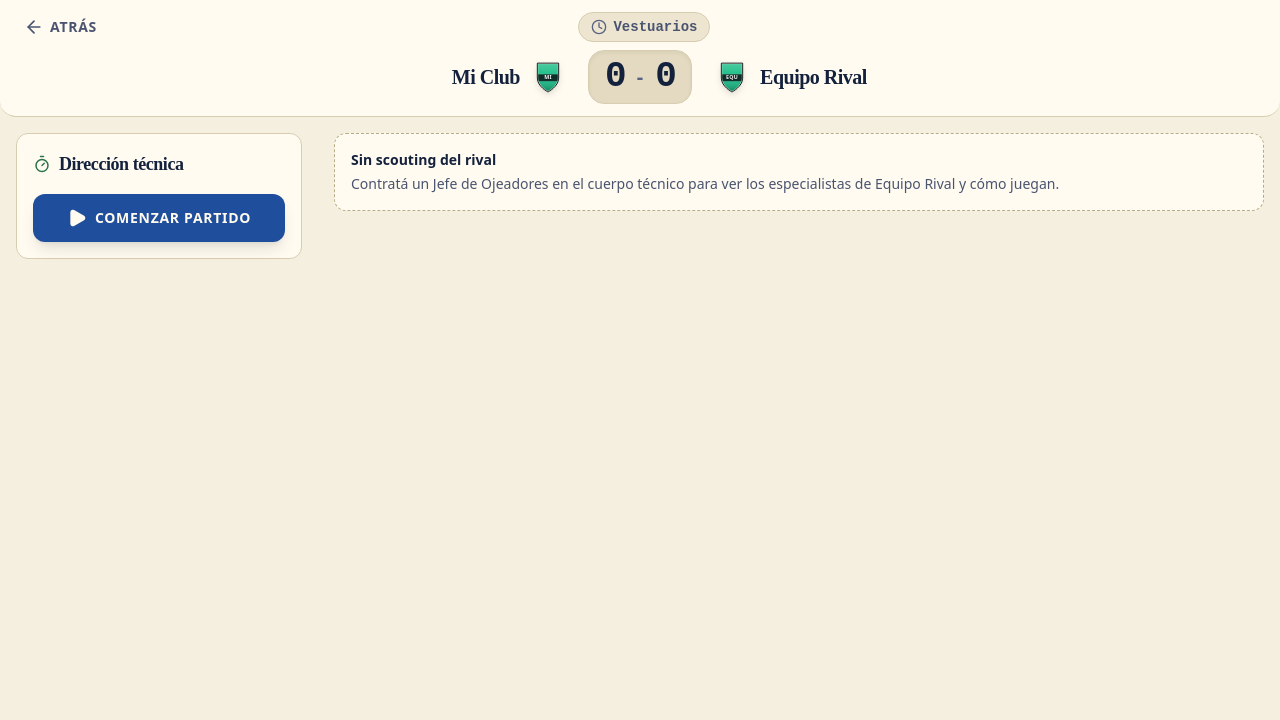
it: partido en escritorio 2.0 › el control, las órdenes y los cambios viven en un solo panel y no hay botonera inferior
Click the button "Comenzar partido" at (159, 218), box [33, 194, 285, 242]
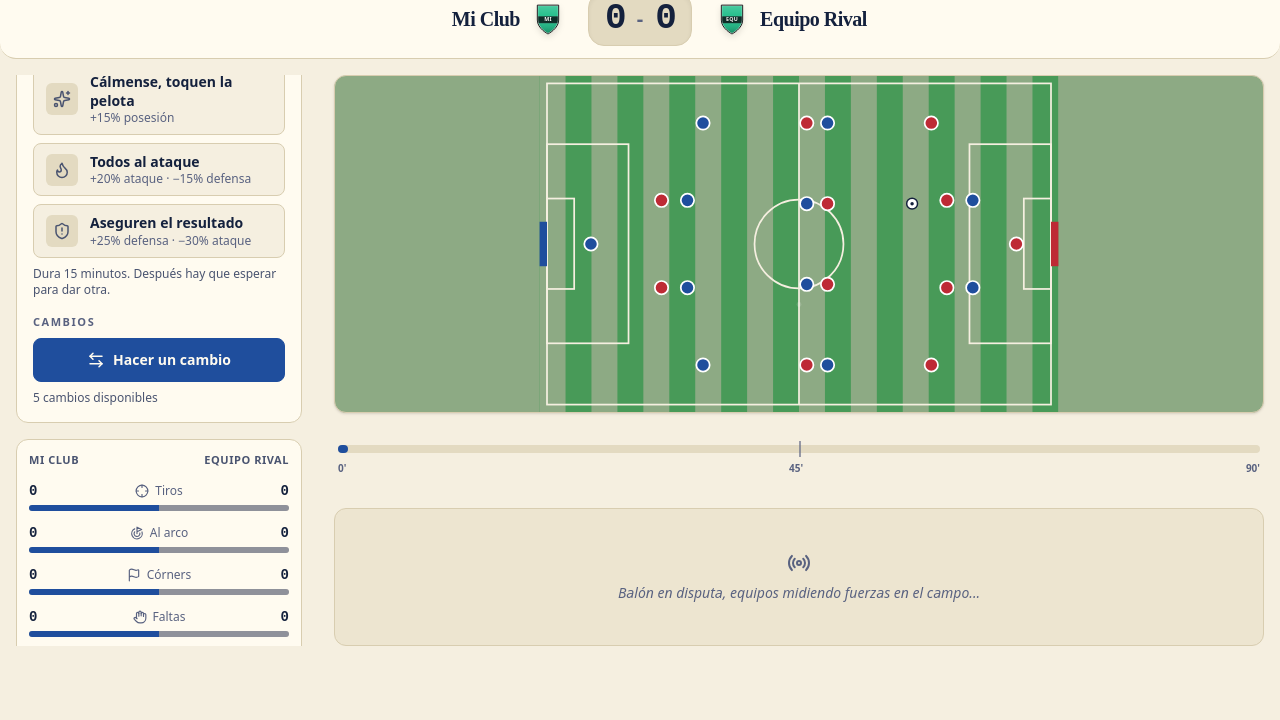
Now the button "Hacer un cambio" is shown, box [33, 338, 285, 382]
